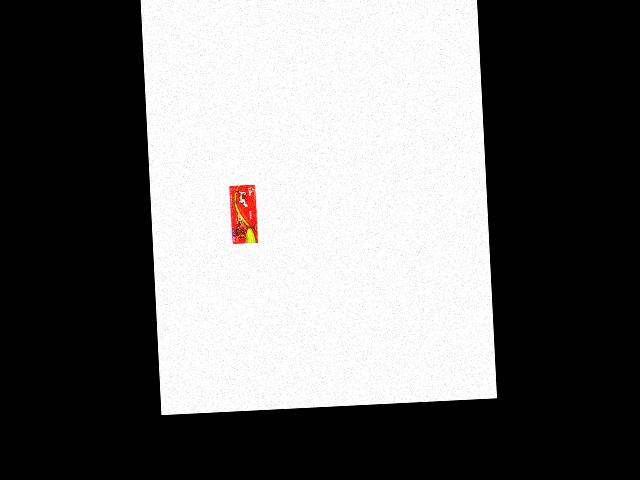chocolate: (223, 180, 260, 245)
